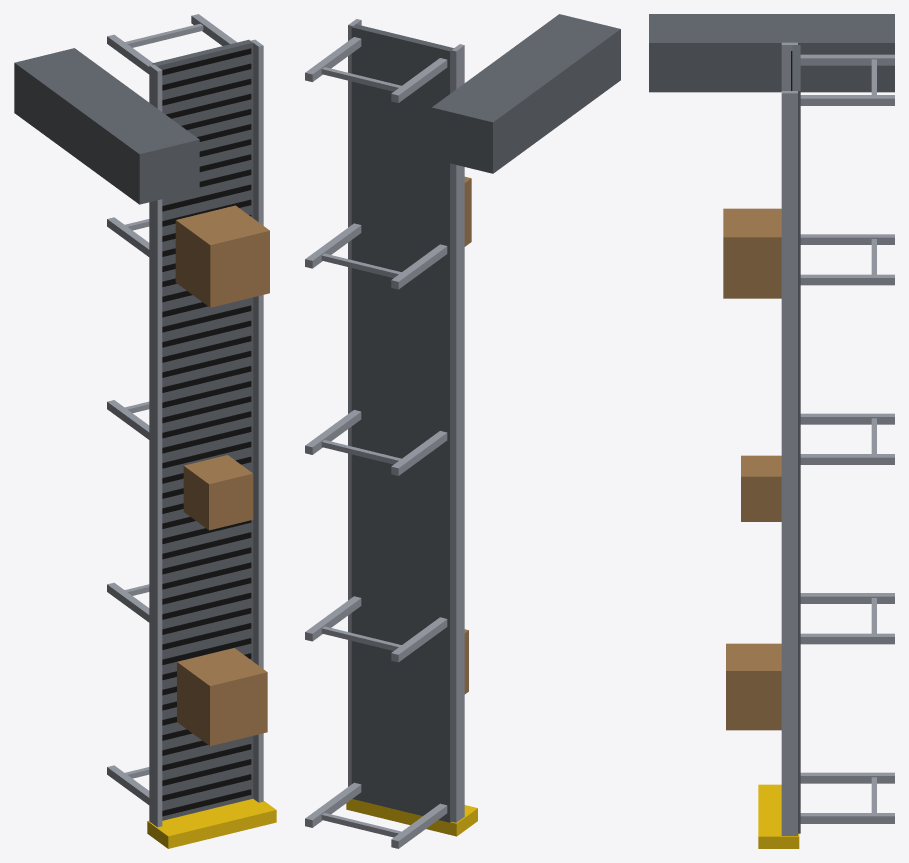
Rendered from conveyor.obj.
3 views of the same model, side by side, from view 1: azimuth 30°, elevation 25°; view 2: azimuth 150°, elevation 25°; view 3: azimuth 270°, elevation 25° (orthographic). The views are drawn at different scales.
Visible parts, largest first — view 1: crate_grey, steel, black, cardboard, yellow; view 2: crate_grey, steel, yellow, cardboard; view 3: steel, crate_grey, cardboard, yellow.
Part boxes in pixels (x1,y1,x2,y2): crate_grey: (14, 39, 253, 820); steel: (107, 14, 263, 827); black: (162, 48, 251, 816); cardboard: (175, 205, 269, 746); yellow: (147, 799, 276, 848); crate_grey: (351, 14, 620, 822); steel: (305, 19, 464, 848); yellow: (346, 799, 477, 836); cardboard: (464, 176, 471, 694); steel: (781, 42, 894, 835); crate_grey: (649, 14, 894, 833); cardboard: (723, 208, 781, 730); yellow: (758, 784, 799, 848).
Size of the model in its own units: 1.6 by 6.1 by 1.8.
